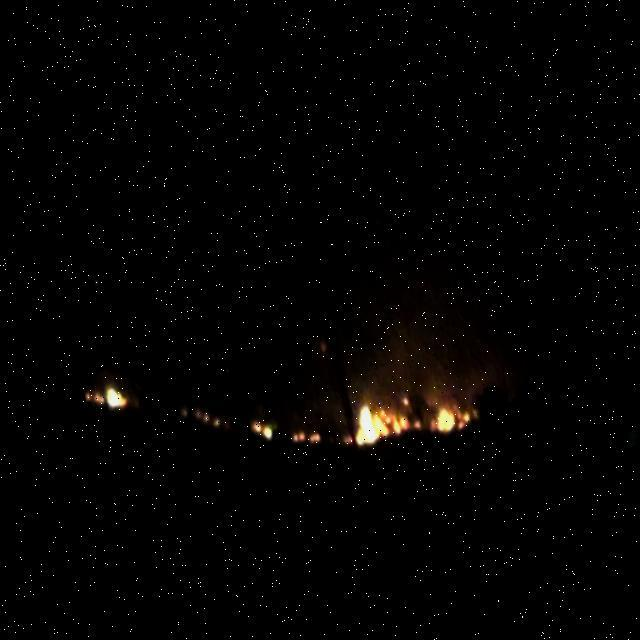Fire: (330, 404, 391, 454), (65, 378, 114, 412), (410, 408, 452, 446), (269, 433, 303, 451), (229, 422, 254, 444)
